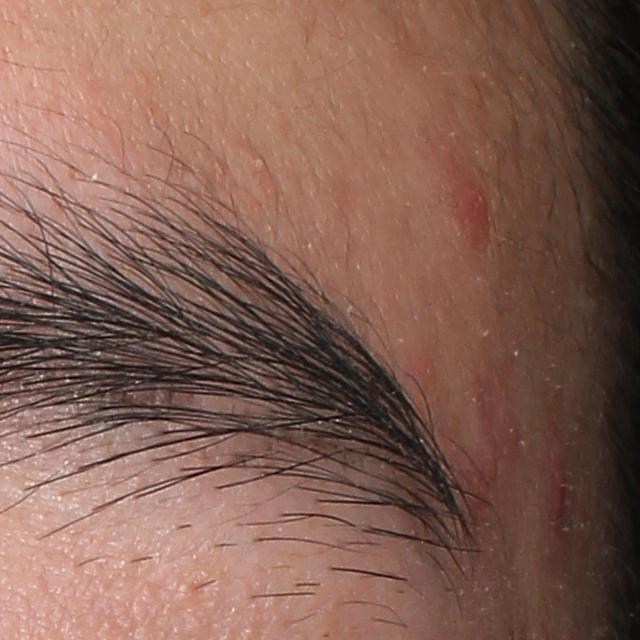papule: (536, 435, 578, 542), (450, 171, 492, 248)
